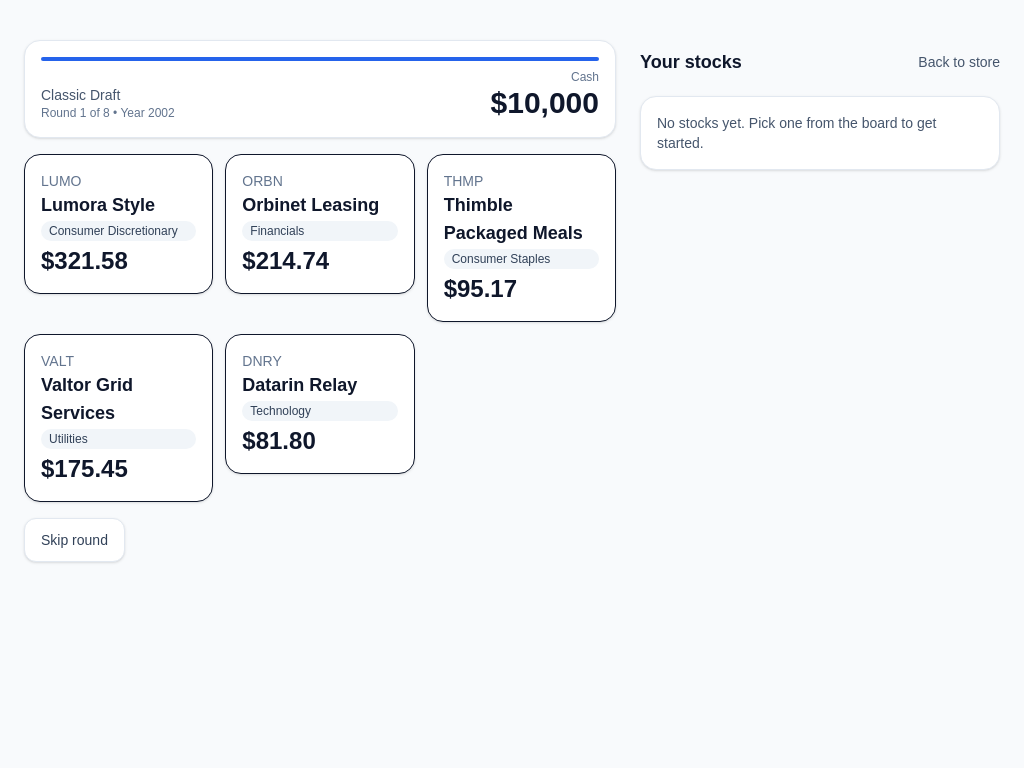
PlayGame › buying advances to the next round
Click the button "LUMO Lumora Style Consumer Discretionary $321.58" at (119, 224), box [24,154,213,294]
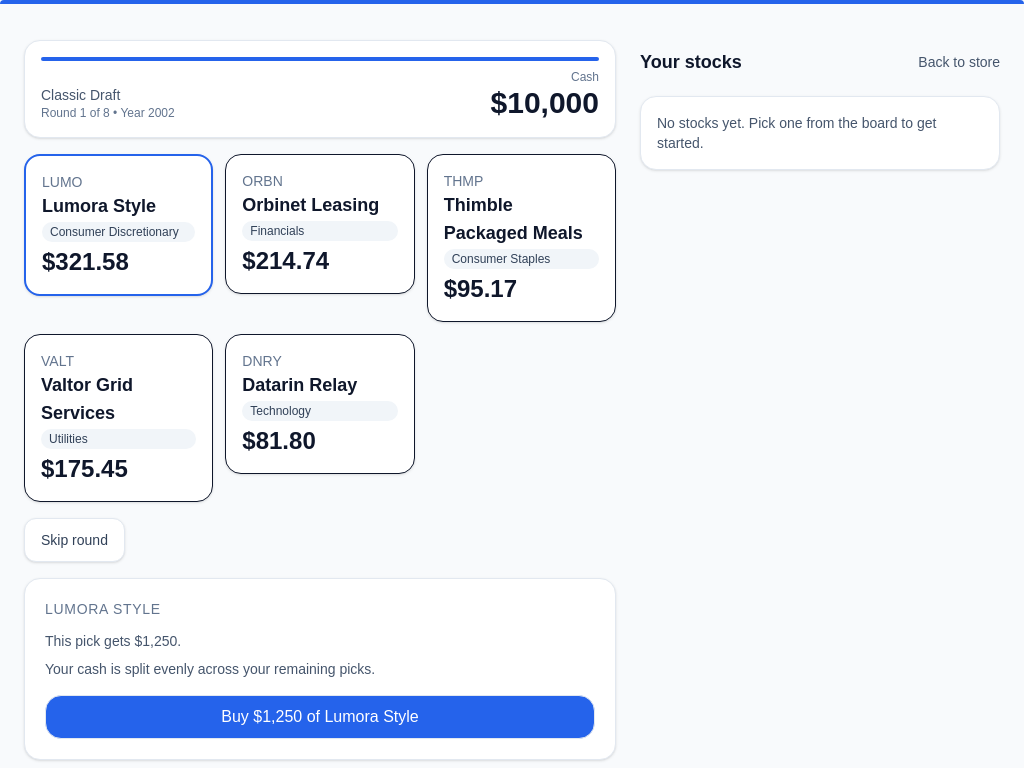
Click the button "Buy $1,250 of Lumora Style" at (320, 717), box [45,695,595,739]
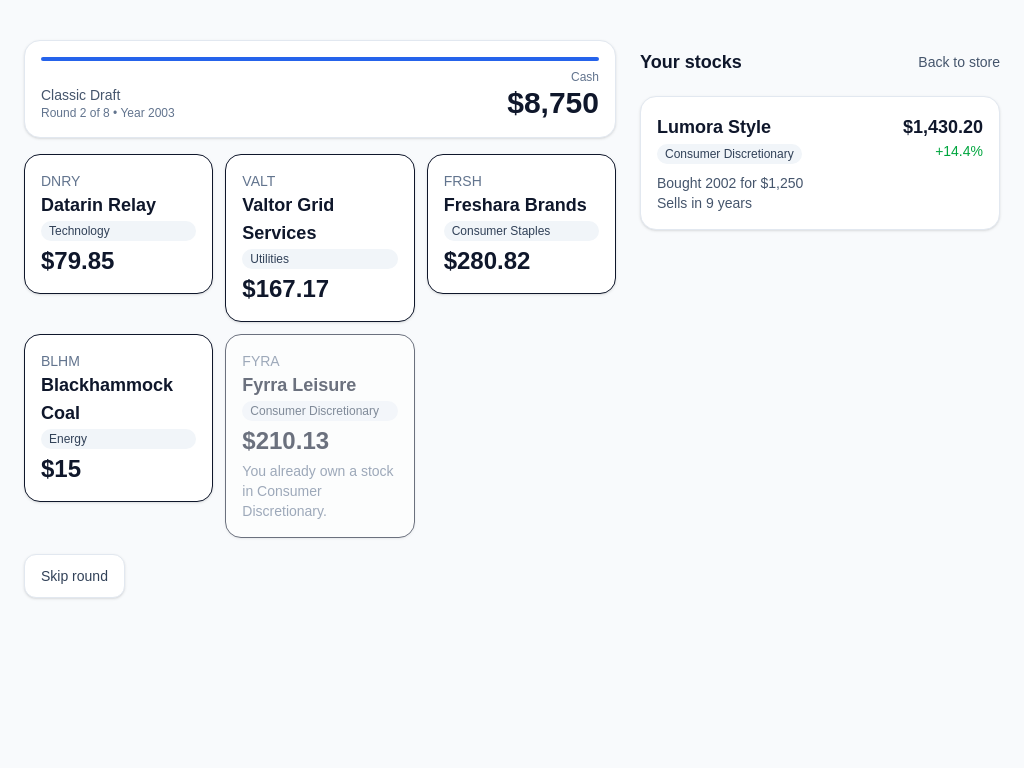
Now the text "Round 2 of 8 • Year 2003" is shown, box [41,105,175,121]
